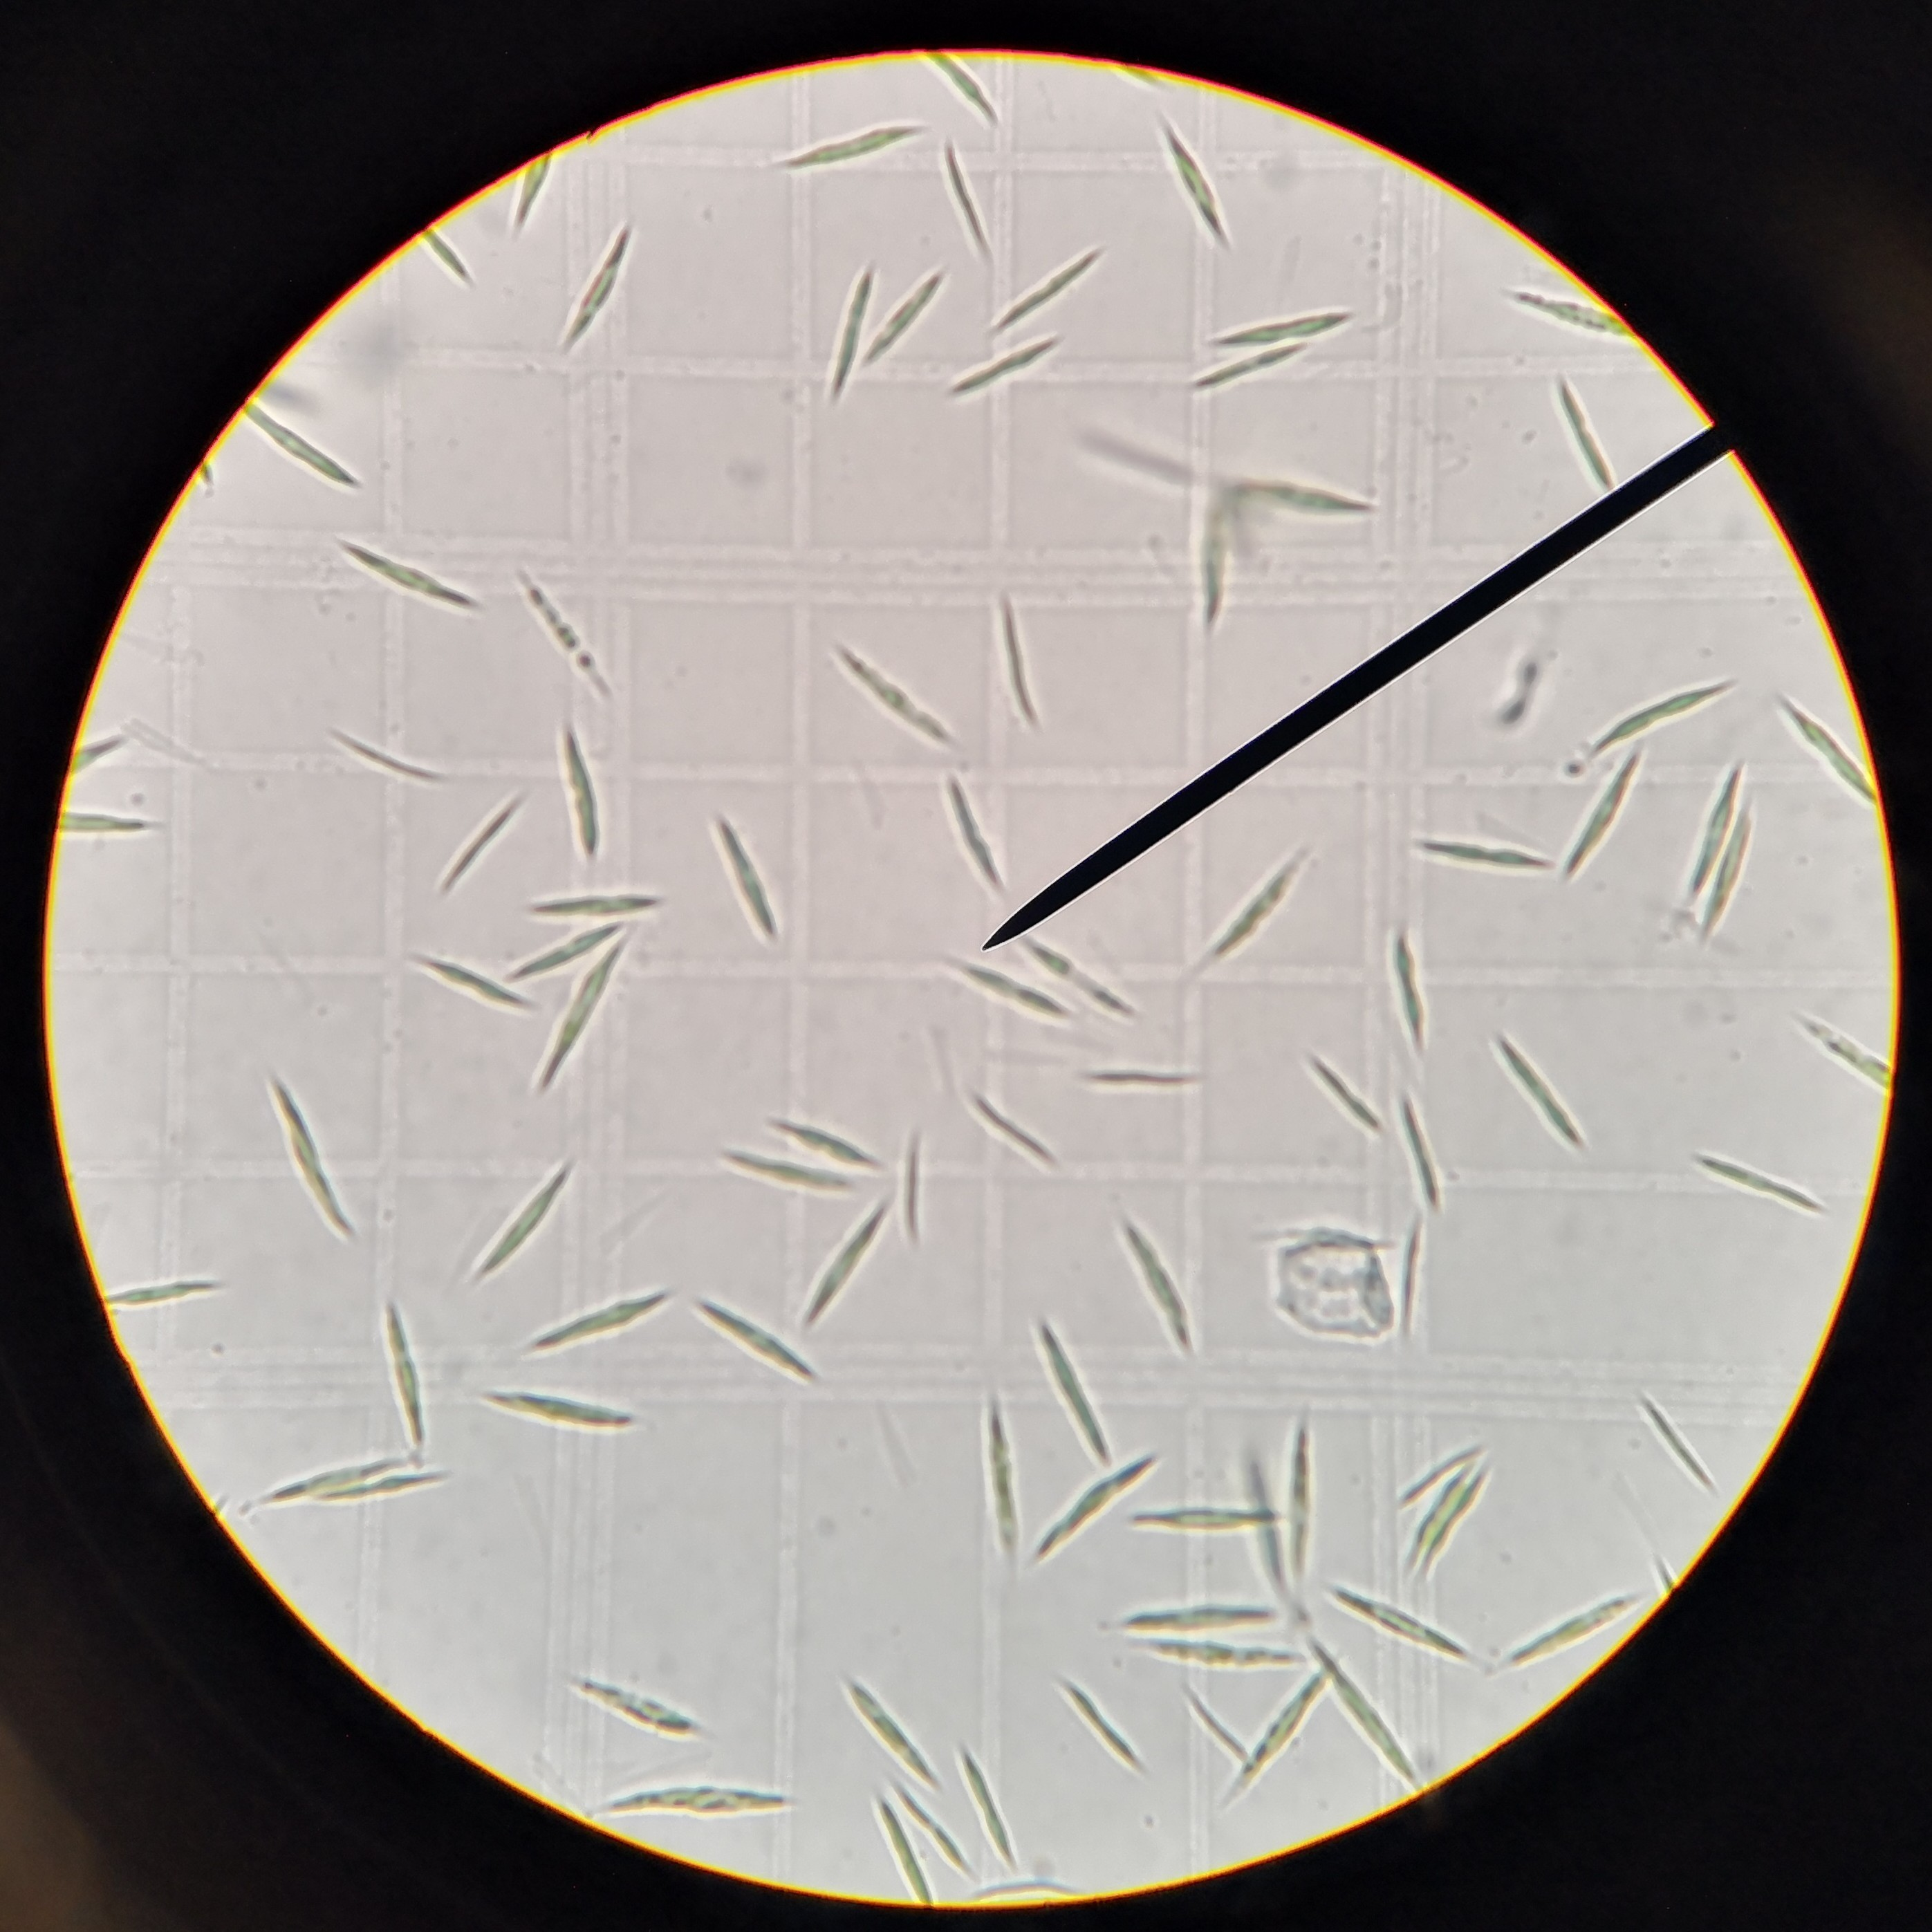Microalgae: (1175, 835, 1302, 978), (1033, 1449, 1162, 1571), (513, 566, 614, 701), (460, 1168, 570, 1290), (272, 1079, 349, 1246), (837, 637, 954, 741), (1231, 1668, 1327, 1792), (692, 1293, 823, 1384), (987, 232, 1104, 333), (1407, 1465, 1506, 1583), (1504, 1589, 1638, 1675), (1315, 1645, 1408, 1769), (541, 948, 626, 1085), (1491, 1046, 1591, 1159), (1778, 701, 1879, 807), (805, 1192, 892, 1315), (331, 540, 472, 614), (1592, 676, 1727, 754), (1316, 1585, 1467, 1652), (842, 1668, 931, 1782), (242, 409, 363, 490), (1557, 757, 1638, 878), (441, 794, 534, 899), (1049, 1672, 1146, 1771), (520, 1286, 671, 1350), (476, 1375, 639, 1433), (1035, 1316, 1100, 1460), (1783, 1014, 1893, 1099), (1155, 117, 1228, 242), (605, 1775, 794, 1822), (1113, 1201, 1180, 1336), (228, 1460, 389, 1514), (709, 824, 778, 947), (766, 111, 925, 163), (575, 1677, 706, 1739), (1504, 276, 1635, 336), (570, 221, 630, 349), (1700, 814, 1757, 948), (1688, 1162, 1831, 1215), (947, 954, 1065, 1017), (959, 1090, 1058, 1166), (892, 1789, 973, 1879), (1638, 1391, 1711, 1491), (821, 264, 872, 405), (1684, 764, 1736, 906), (1026, 941, 1134, 1007), (1387, 1435, 1495, 1500), (1382, 924, 1435, 1056), (101, 1265, 230, 1318), (952, 1743, 1008, 1863), (1548, 384, 1608, 495), (715, 1150, 855, 1198), (409, 959, 534, 1012), (331, 729, 446, 786), (1214, 308, 1353, 354), (984, 1391, 1021, 1562), (996, 594, 1042, 732), (1407, 828, 1548, 872), (870, 271, 939, 361), (1311, 1046, 1382, 1132), (780, 1111, 883, 1169), (954, 778, 1003, 895), (1387, 1223, 1437, 1339), (556, 725, 600, 855), (1178, 1684, 1247, 1766), (950, 341, 1051, 396), (1399, 1093, 1444, 1215), (510, 929, 617, 978), (1283, 1415, 1315, 1582), (920, 44, 993, 117), (386, 1302, 421, 1445), (1125, 1637, 1292, 1667), (874, 1803, 925, 1898), (945, 143, 985, 260), (317, 1474, 444, 1509), (1219, 487, 1384, 513), (48, 803, 168, 839), (985, 1872, 1097, 1909), (1074, 1065, 1210, 1095), (1196, 347, 1306, 384), (1208, 483, 1235, 612), (69, 718, 120, 782), (418, 225, 469, 285), (1154, 1507, 1267, 1534), (513, 149, 548, 230), (525, 899, 665, 918), (902, 1125, 924, 1251), (1113, 1612, 1276, 1628)
